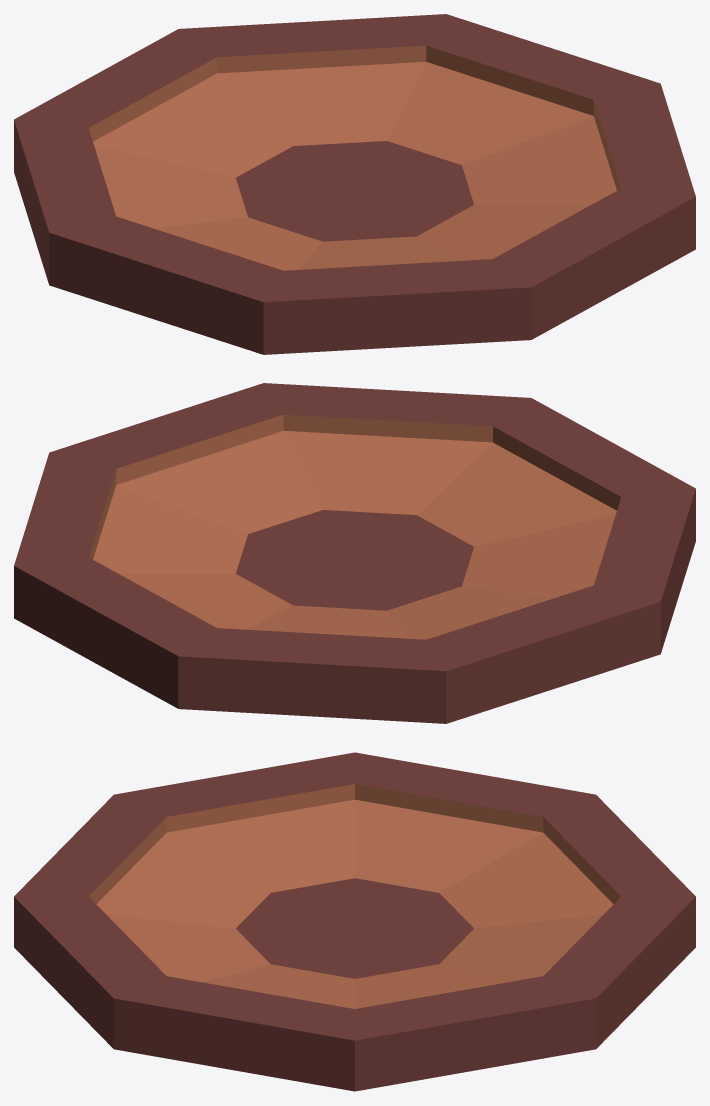
The model's file is vent.fbx.
3 renders of one model, top to bottom at view 1: azimuth 30°, elevation 25°; view 2: azimuth 150°, elevation 25°; view 3: azimuth 270°, elevation 25°, orthographic. The views are drawn at different scales.
Visible parts, largest first — view 1: Circle; view 2: Circle; view 3: Circle.
Boxes of the visible parts, box(x1,y1,x2,y2) form: Circle: box(14, 14, 695, 354); Circle: box(14, 383, 695, 723); Circle: box(14, 752, 695, 1091).
Bounding box in the file's own units: 200 × 16.47 × 200.
